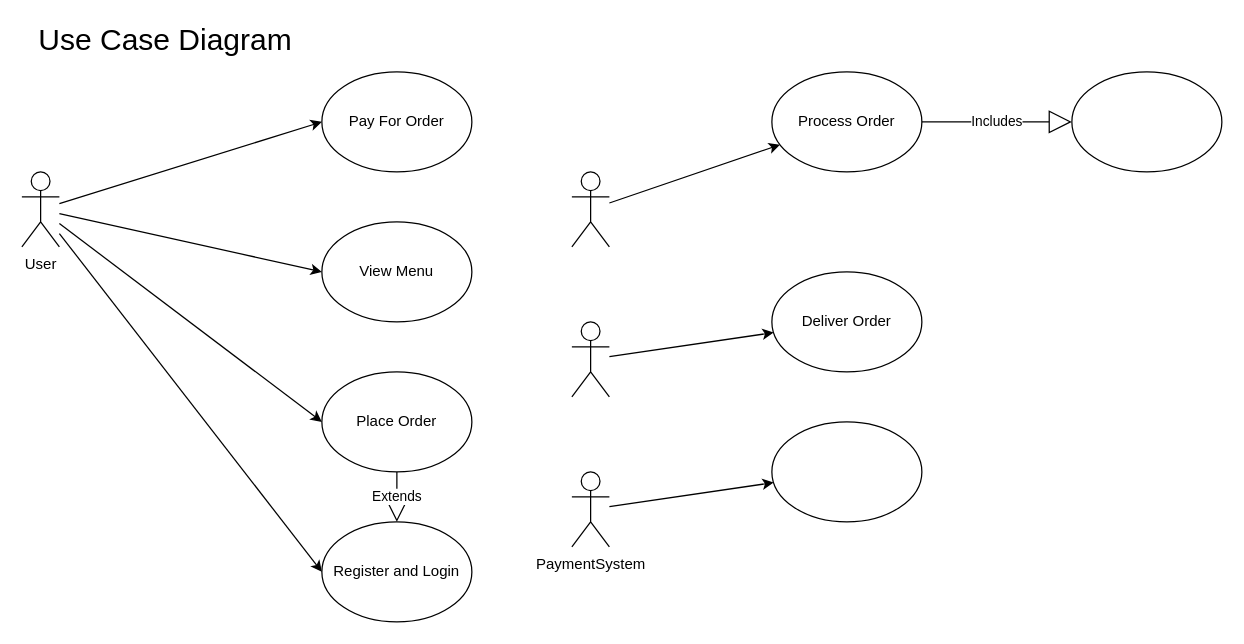
The diagram is 1244 pixels wide and 644 high, and some of its shapes have lost their labels. The centre of each missing label's shape, as x and y in pixels:
"Courier" belongs at (590,359).
"Prepare Order" belongs at (1146,121).
"Process Payment" belongs at (846,471).
"Restaurant" belongs at (590,209).
